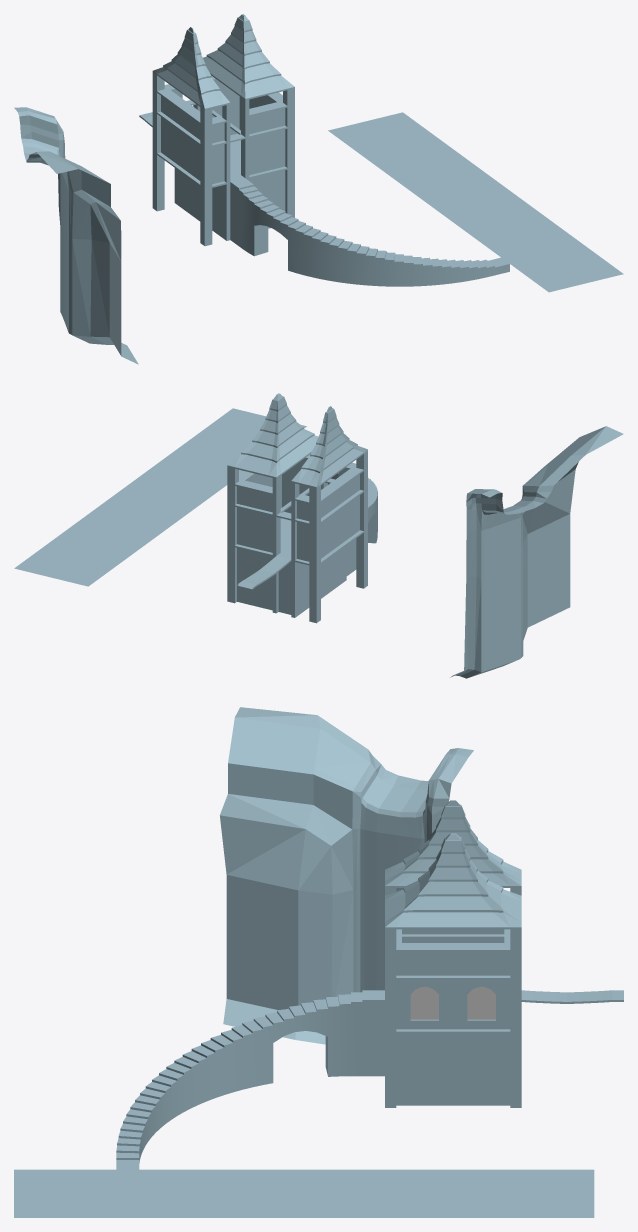
File: castle.obj
The picture shows the model from 3 angles, top to bottom: view 1: azimuth 30°, elevation 25°; view 2: azimuth 150°, elevation 25°; view 3: azimuth 270°, elevation 25°; orthographic projection. The views are drawn at different scales.
Parts seen in each view (by area): view 1: Level_Cube; view 2: Level_Cube; view 3: Level_Cube, Windows_Cube.002.
Part boxes in pixels (<box>): Level_Cube: <box>14,14,623,364</box>; Level_Cube: <box>14,393,623,678</box>; Level_Cube: <box>14,707,623,1217</box>; Windows_Cube.002: <box>410,986,495,1019</box>.
Size of the model in its own units: 64.05 by 32.24 by 53.59.
